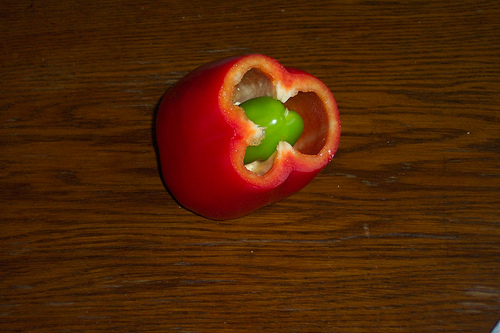capsicum: (152, 50, 345, 223)
